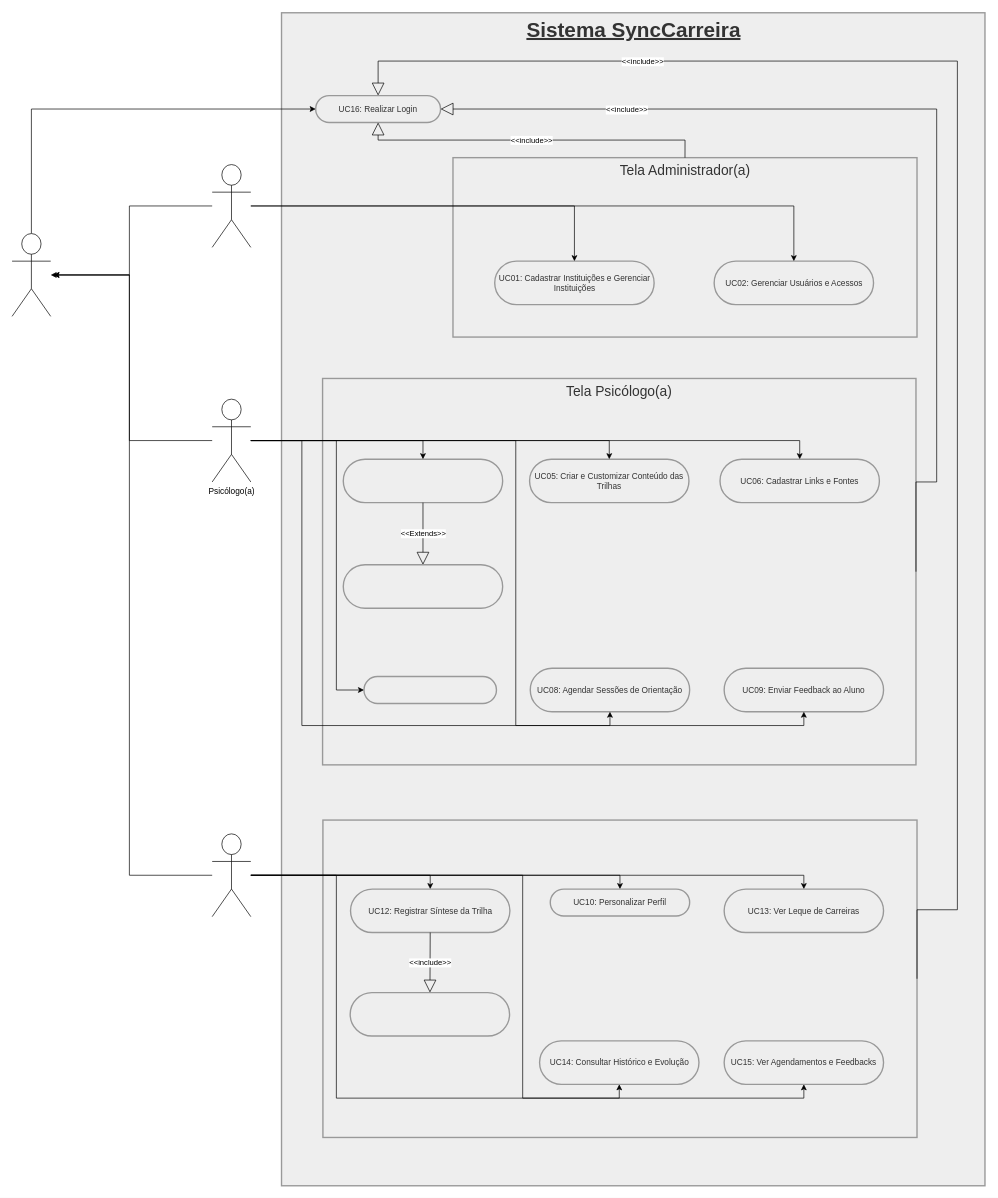
Image size: 998x1198. Some labels were removed from this diagram. The box of each missing label's shape, as (x1, y1, x2, y2) in pixels:
Administrador(a ): (211, 164, 251, 247)
Aluno(a ): (211, 833, 251, 917)
Tela Aluno(a): (322, 819, 917, 1138)
UC03: Monitorar Status por Turma: (342, 458, 503, 503)
UC04: Ver Alunos com Flag de Dúvida: (342, 564, 503, 609)
UC07: Emitir Relatórios: (363, 676, 497, 704)
UC11: Percorrer Trilhas Sequenciais: (349, 992, 510, 1036)
Usuário: (11, 233, 51, 316)
